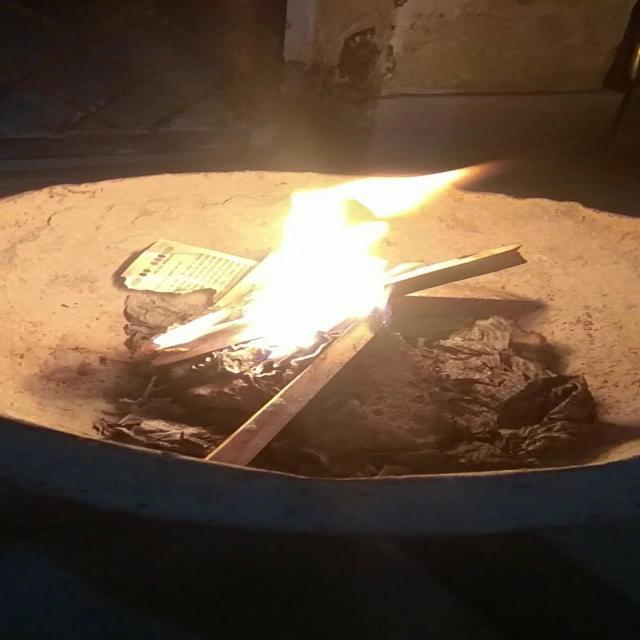Fire: (128, 164, 500, 368)
